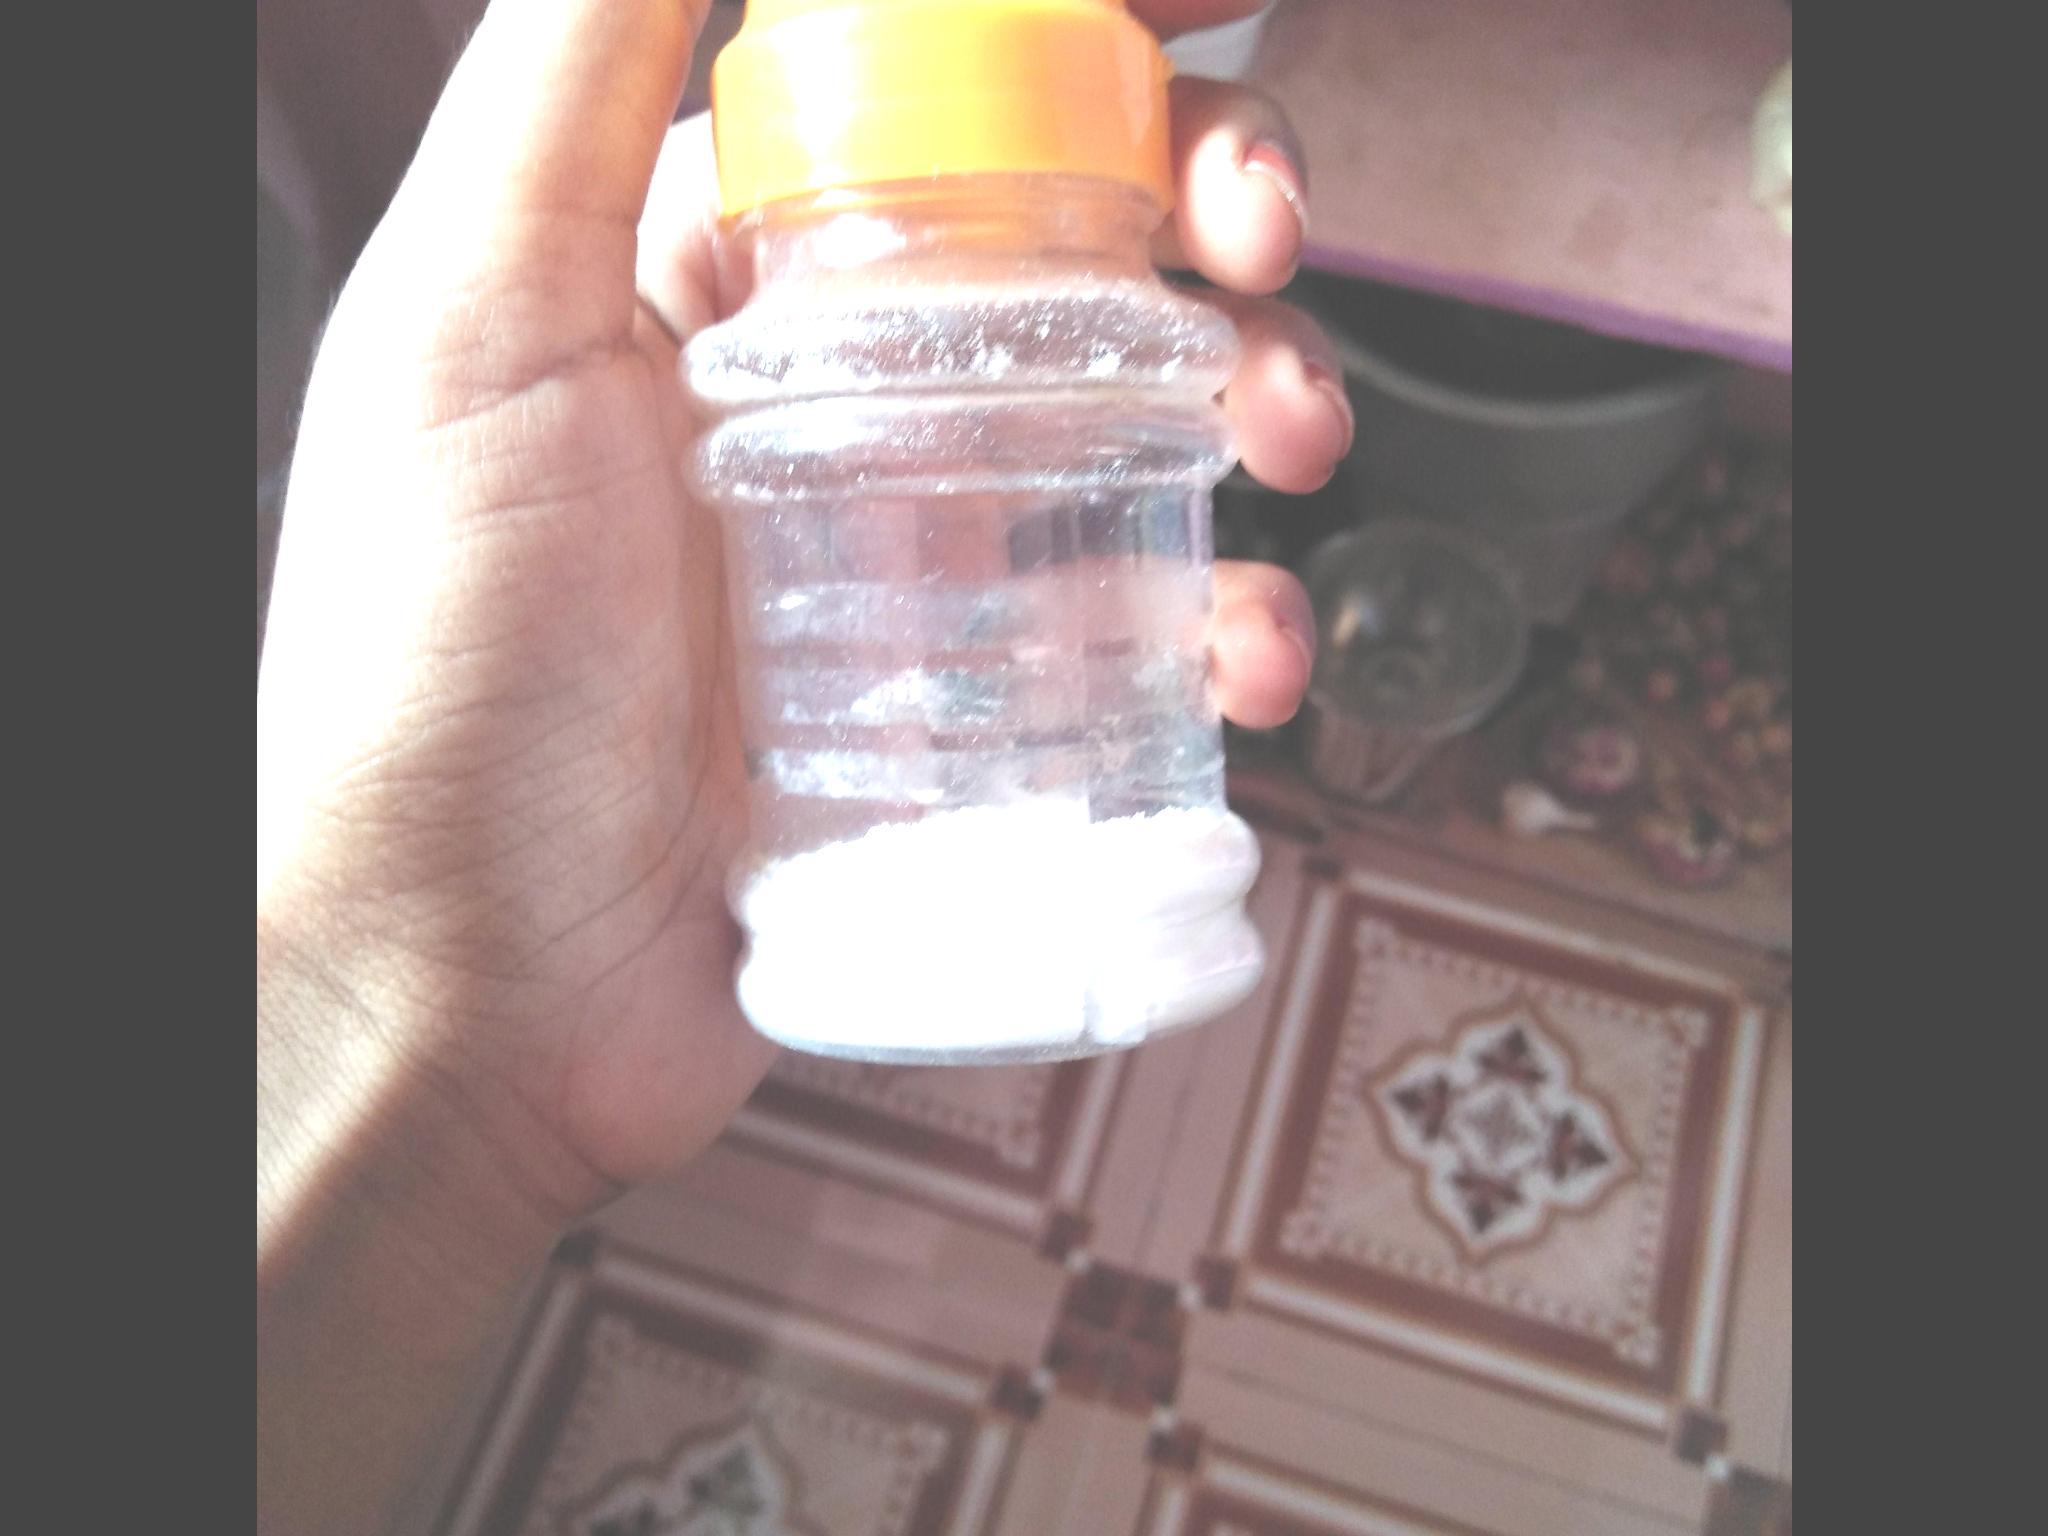bottle: (665, 0, 1283, 1077)
